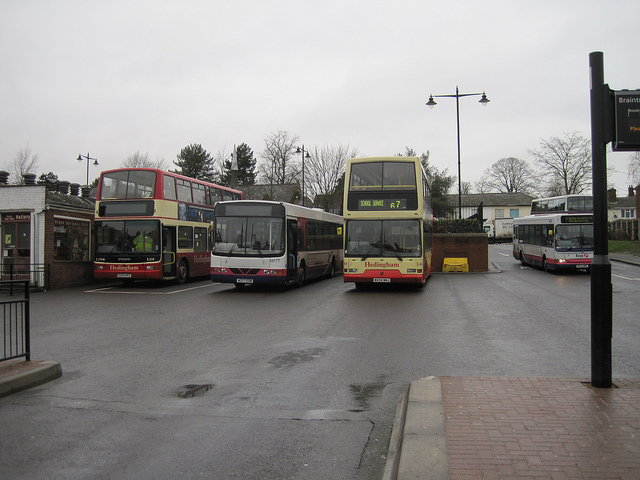Bus: (94, 168, 211, 289), (341, 159, 434, 289), (212, 202, 339, 293), (509, 220, 596, 273)
